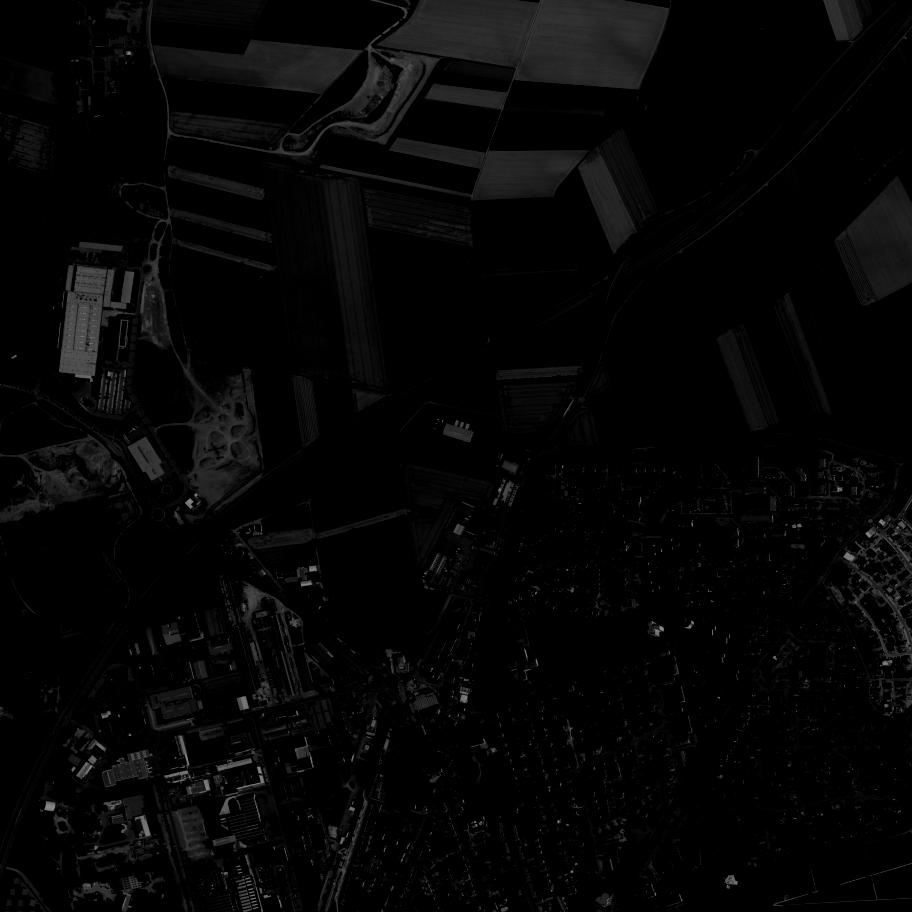storage-tank: (126, 51, 131, 55)
